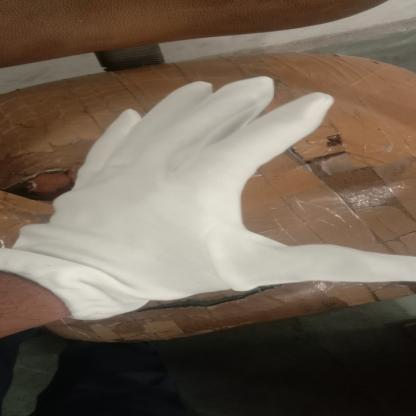gloved_hand: (0, 74, 416, 323)
